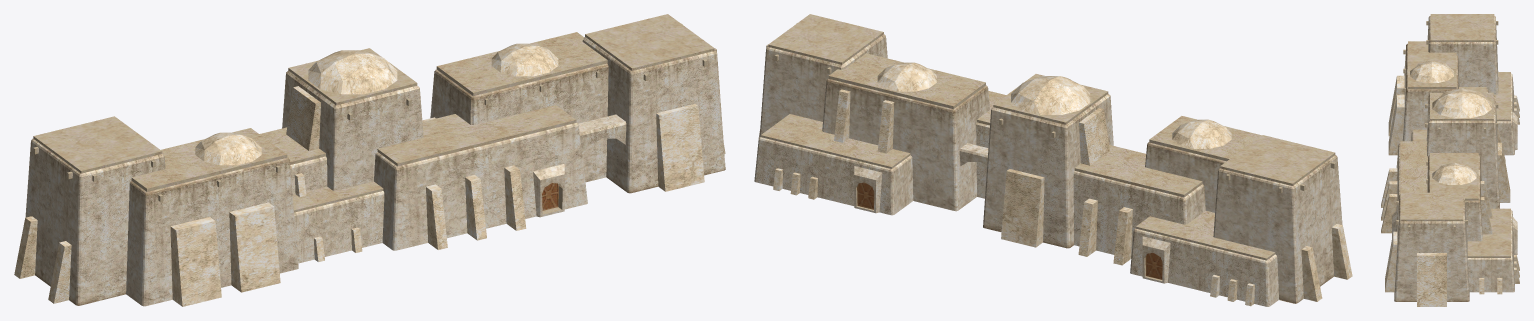
Rendered from thm_tato_block_bldg_64x16_s02_l1.fbx.
3 renders of one model, left to right at view 1: azimuth 30°, elevation 25°; view 2: azimuth 150°, elevation 25°; view 3: azimuth 270°, elevation 25°, orthographic. The views are drawn at different scales.
Visible parts, largest first — view 1: mesh_node; view 2: mesh_node; view 3: mesh_node.
Part boxes in pixels (box(x1,y1,x2,y2)): mesh_node: box(14, 14, 725, 306); mesh_node: box(754, 14, 1352, 306); mesh_node: box(1381, 14, 1519, 306).
Size of the model in its own units: 67.12 by 15.34 by 18.41.
